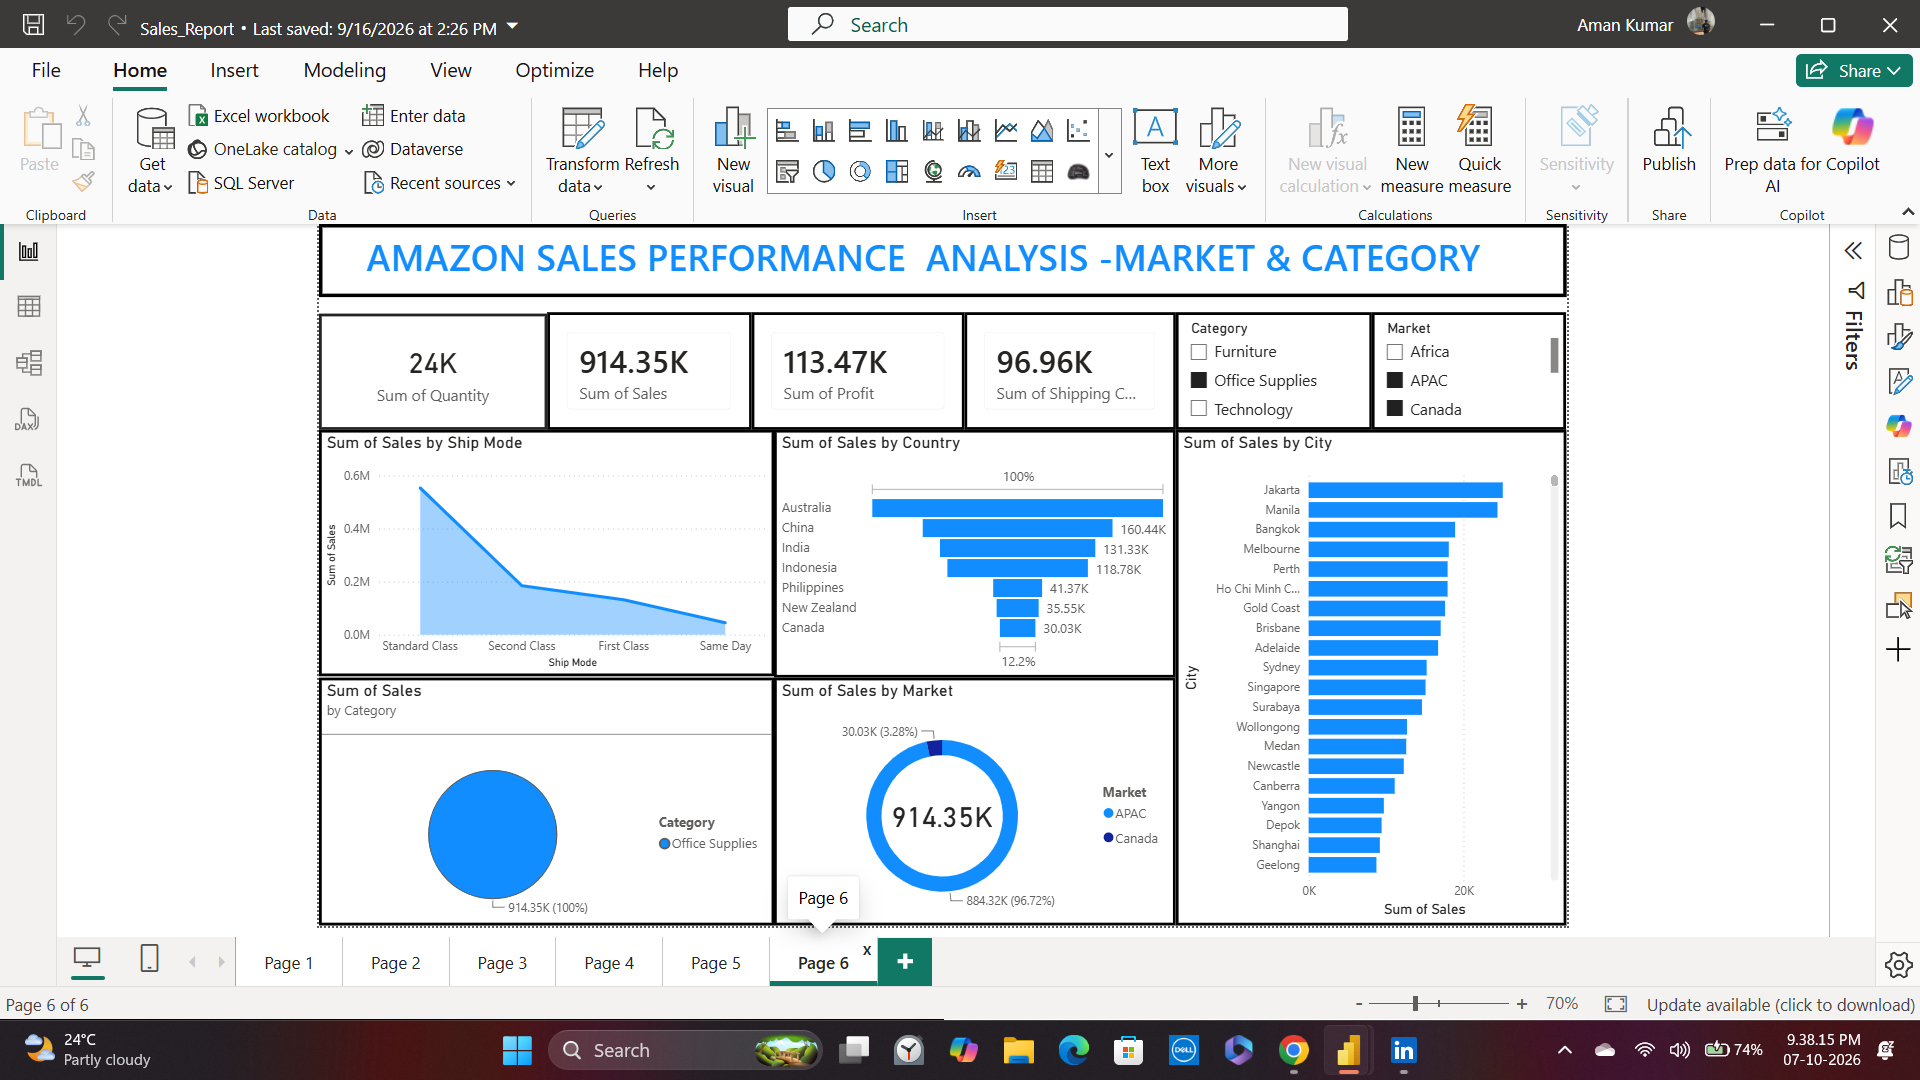

The dashboard page shown, as its layout file describes it:
{"tool":"powerbi","page":{"name":"Page 6","canvas":[1280,720],"ordinal":5},"visuals":[{"type":"pieChart","fields":{"Category":["Orders.Category"],"Y":["Sum(Orders.Sales)"]},"box":[0,465.4,466.8,254.2],"z":0},{"type":"donutChart","fields":{"Category":["Orders.Market"],"Y":["Sum(Orders.Sales)"]},"box":[466.8,465.4,412.2,254.2],"z":1},{"type":"barChart","fields":{"Category":["Orders.City"],"Y":["Sum(Orders.Sales)"]},"box":[879,211.1,400.7,508.4],"z":2},{"type":"areaChart","fields":{"Category":["Orders.Ship Mode"],"Y":["Sum(Orders.Sales)"]},"box":[0,211.1,466.8,252.8],"z":3},{"type":"funnel","fields":{"Category":["Orders.Country"],"Y":["Sum(Orders.Sales)"]},"box":[466.8,211.1,412.2,254.2],"z":4},{"type":"card","fields":{"Values":["Sum(Orders.Quantity)"]},"box":[0,91.9,234.1,119.2],"z":5},{"type":"cardVisual","fields":{"Data":["Sum(Orders.Sales)"]},"box":[234.1,90.5,209.7,120.6],"z":6},{"type":"cardVisual","fields":{"Data":["Sum(Orders.Profit)"]},"box":[443.8,90.5,218.3,120.6],"z":7},{"type":"cardVisual","fields":{"Data":["Sum(Orders.Shipping Cost)"]},"box":[662.1,90.5,216.9,120.6],"z":8},{"type":"slicer","fields":{"Values":["Orders.Category"]},"box":[879,90.5,201.1,120.6],"z":9},{"type":"slicer","fields":{"Values":["Orders.Market"]},"box":[1080.1,90.5,199.6,120.6],"z":10},{"type":"textbox","box":[0,0,1279.7,74.7],"z":11}]}

Visuals, with their boxes on the page's 1280x720 design canvas (x1, y1, x2, y2). These are canvas units, not pixel positions in the 1920x1080 screenshot, which may show the page scaled, cropped or inside an application window:
pieChart - Orders.Category x Sum(Orders.Sales): <box>0,465,467,720</box>
donutChart - Orders.Market x Sum(Orders.Sales): <box>467,465,879,720</box>
barChart - Orders.City x Sum(Orders.Sales): <box>879,211,1280,720</box>
areaChart - Orders.Ship Mode x Sum(Orders.Sales): <box>0,211,467,464</box>
funnel - Orders.Country x Sum(Orders.Sales): <box>467,211,879,465</box>
card - Sum(Orders.Quantity): <box>0,92,234,211</box>
cardVisual - Sum(Orders.Sales): <box>234,90,444,211</box>
cardVisual - Sum(Orders.Profit): <box>444,90,662,211</box>
cardVisual - Sum(Orders.Shipping Cost): <box>662,90,879,211</box>
slicer - Orders.Category: <box>879,90,1080,211</box>
slicer - Orders.Market: <box>1080,90,1280,211</box>
textbox: <box>0,0,1280,75</box>
